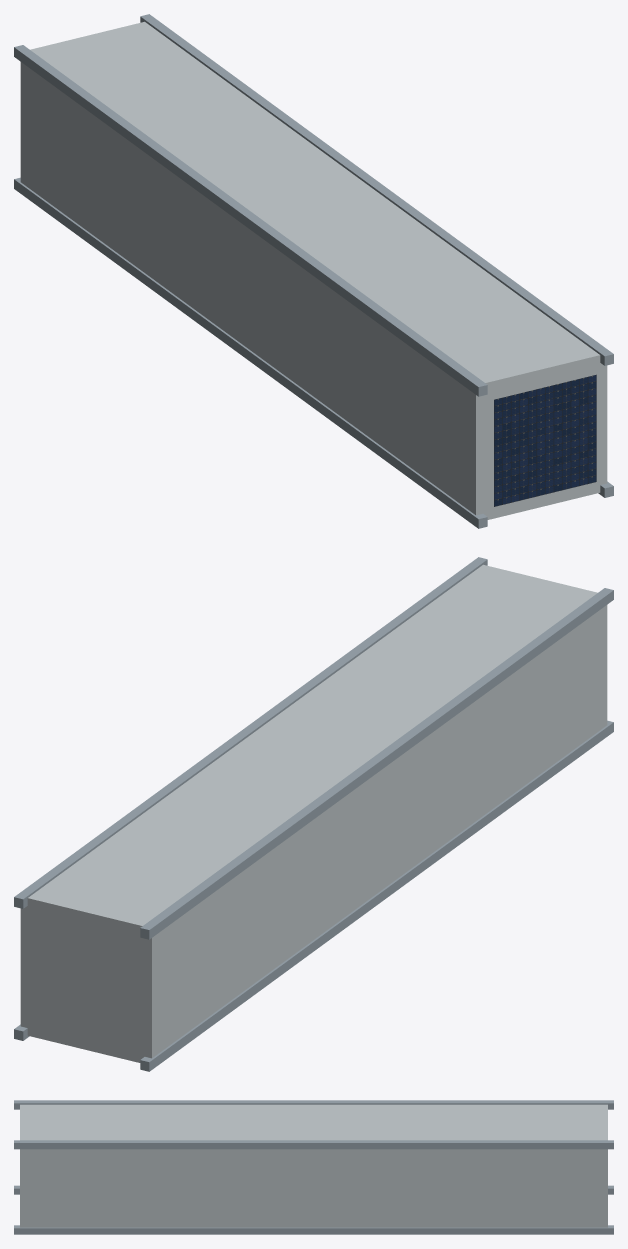
Rendered from ref-cubesat-1x6u-51443.glb.
3 views of the same model, one above another, from view 1: azimuth 30°, elevation 25°; view 2: azimuth 150°, elevation 25°; view 3: azimuth 270°, elevation 25° (orthographic). The views are drawn at different scales.
Visible parts, largest first — view 1: Spacecraft body, Dispenser rail (×3), Body-mounted cells; view 2: Spacecraft body, Dispenser rail (×3); view 3: Spacecraft body, Dispenser rail (×3).
Boxes of the visible parts, x1,y1,x2,y2 form: Spacecraft body: (20,21,607,519); Dispenser rail (×3): (14,14,613,528); Body-mounted cells: (494,374,596,506); Spacecraft body: (20,564,607,1062); Dispenser rail (×3): (14,557,613,1071); Spacecraft body: (20,1104,607,1227); Dispenser rail (×3): (14,1100,613,1234).
Bounding box in the file's own units: 0.103 × 0.103 × 0.612.
3 materials, 1 textured.
